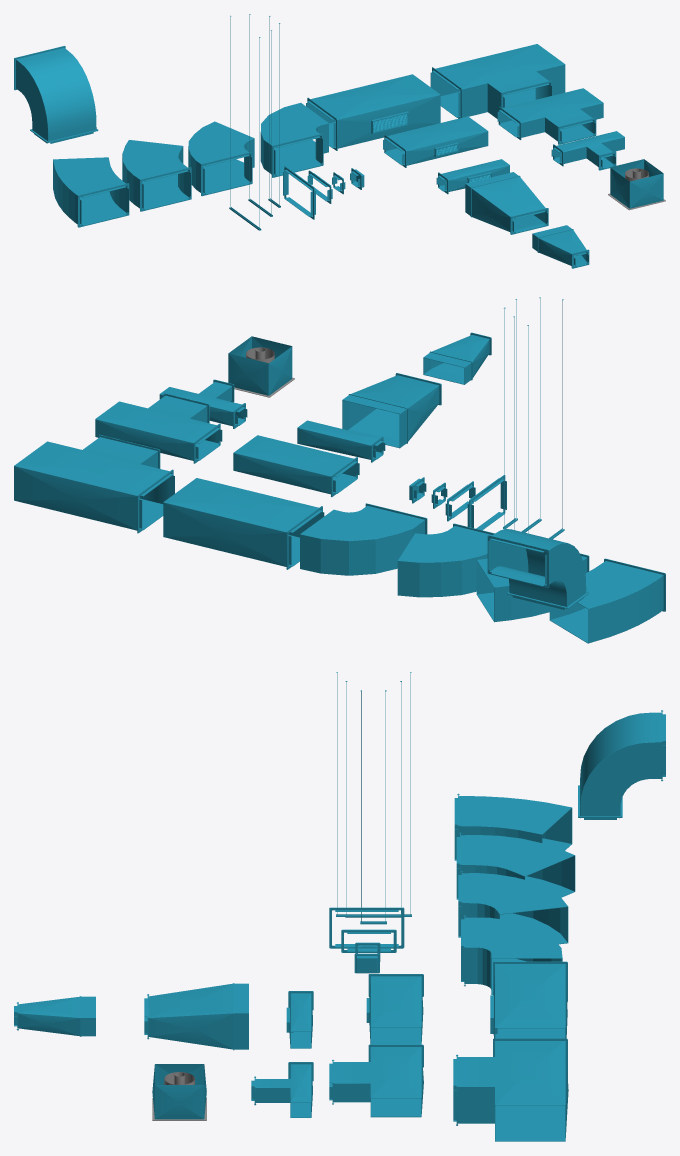
The model's file is SM_Duct.FBX.
3 views of the same model, one above another, from view 1: azimuth 30°, elevation 25°; view 2: azimuth 150°, elevation 25°; view 3: azimuth 270°, elevation 25° (orthographic). The views are drawn at different scales.
Visible parts, largest first — view 1: Duct_T_Large, Duct_Bent_Vertical_90, Duct_Large, Duct_Bent_25, Duct_T_Medium, Duct_Bent_45, Duct_Bent_90, Duct_Bent_75, Duct_Reducer_Medium, Duct_Medium, Duct_Ventilation, Duct_T_Small (+7 smaller); view 2: Duct_T_Large, Duct_Large, Duct_Bent_90, Duct_Bent_25, Duct_Bent_Vertical_90, Duct_T_Medium, Duct_Bent_75, Duct_Reducer_Medium, Duct_Medium, Duct_Ventilation, Duct_Reducer_Small, Duct_Bent_45 (+4 smaller); view 3: Duct_T_Large, Duct_Bent_Vertical_90, Duct_Reducer_Medium, Duct_Large, Duct_T_Medium, Duct_Bent_75, Duct_Bent_45, Duct_Bent_25, Duct_Bent_90, Duct_Medium, Duct_Ventilation, Duct_Reducer_Small (+4 smaller).
Boxes of the visible parts, bbox=[...] form: Duct_T_Large: bbox=[430, 44, 565, 118]; Duct_Bent_Vertical_90: bbox=[14, 46, 98, 143]; Duct_Large: bbox=[306, 74, 440, 150]; Duct_Bent_25: bbox=[53, 157, 129, 227]; Duct_T_Medium: bbox=[497, 88, 603, 144]; Duct_Bent_45: bbox=[122, 140, 191, 211]; Duct_Bent_90: bbox=[260, 103, 328, 177]; Duct_Bent_75: bbox=[188, 121, 254, 196]; Duct_Reducer_Medium: bbox=[465, 172, 548, 234]; Duct_Medium: bbox=[383, 116, 488, 167]; Duct_Ventilation: bbox=[608, 159, 665, 210]; Duct_T_Small: bbox=[551, 131, 624, 170]; Duct_T_Large: bbox=[14, 434, 174, 533]; Duct_Large: bbox=[163, 478, 324, 569]; Duct_Bent_90: bbox=[300, 503, 427, 575]; Duct_Bent_25: bbox=[549, 558, 665, 643]; Duct_Bent_Vertical_90: bbox=[487, 529, 588, 609]; Duct_T_Medium: bbox=[95, 393, 222, 463]; Duct_Bent_75: bbox=[397, 523, 494, 597]; Duct_Reducer_Medium: bbox=[342, 373, 441, 448]; Duct_Medium: bbox=[233, 435, 359, 496]; Duct_Ventilation: bbox=[228, 336, 294, 397]; Duct_Reducer_Small: bbox=[423, 332, 491, 384]; Duct_Bent_45: bbox=[476, 553, 589, 622]; Duct_T_Large: bbox=[453, 1038, 568, 1141]; Duct_Bent_Vertical_90: bbox=[578, 710, 665, 819]; Duct_Reducer_Medium: bbox=[144, 983, 248, 1050]; Duct_Large: bbox=[493, 961, 567, 1038]; Duct_T_Medium: bbox=[329, 1044, 423, 1117]; Duct_Bent_75: bbox=[458, 871, 568, 944]; Duct_Bent_45: bbox=[456, 832, 575, 899]; Duct_Bent_25: bbox=[454, 793, 572, 860]; Duct_Bent_90: bbox=[461, 915, 562, 994]; Duct_Medium: bbox=[368, 974, 423, 1044]; Duct_Ventilation: bbox=[152, 1064, 206, 1120]; Duct_Reducer_Small: bbox=[14, 996, 95, 1036].
Bounding box in the file's own units: 8.5 × 3.14 × 7.56.
